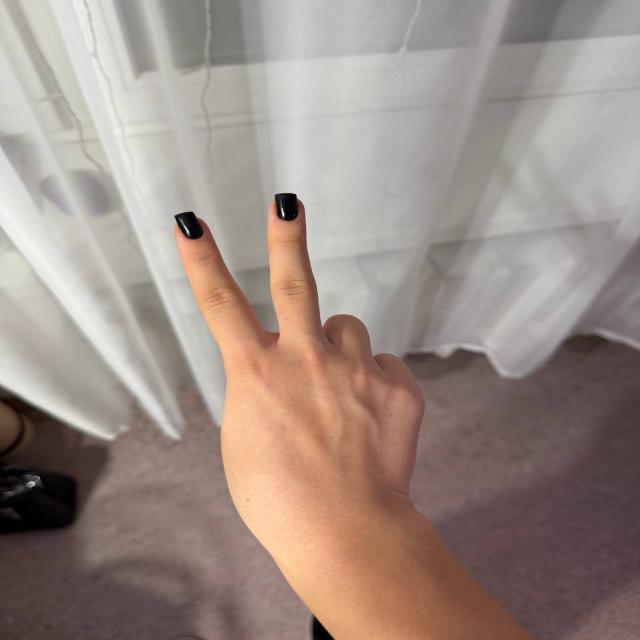l: (136, 190, 431, 493)
